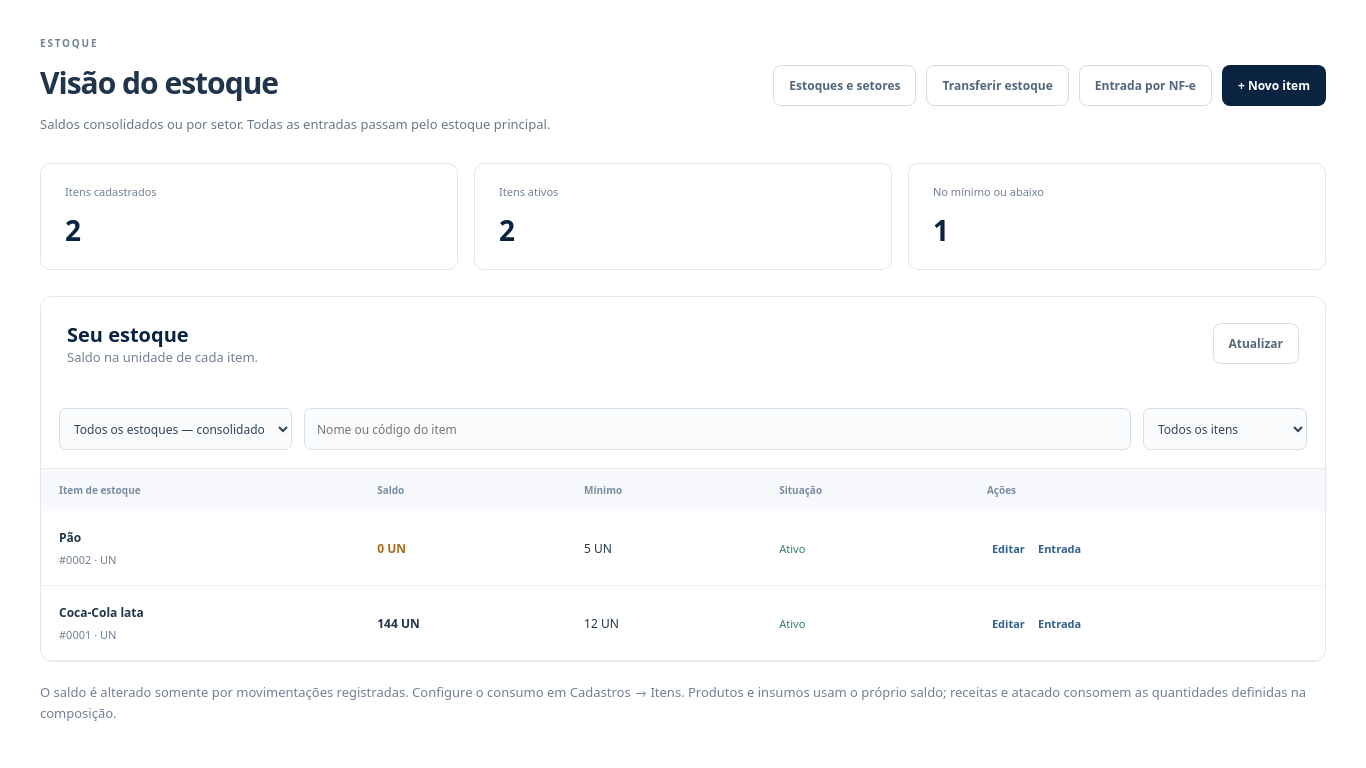
Scenario: shows the chosen sector balance and offers transfers from the stock overview
Check: the text "Coca-Cola lata" is shown, box [59,604,144,621]
Select "Cozinha" in the dropdown named "Estoque / setor": (176, 429) [59,408,292,450]
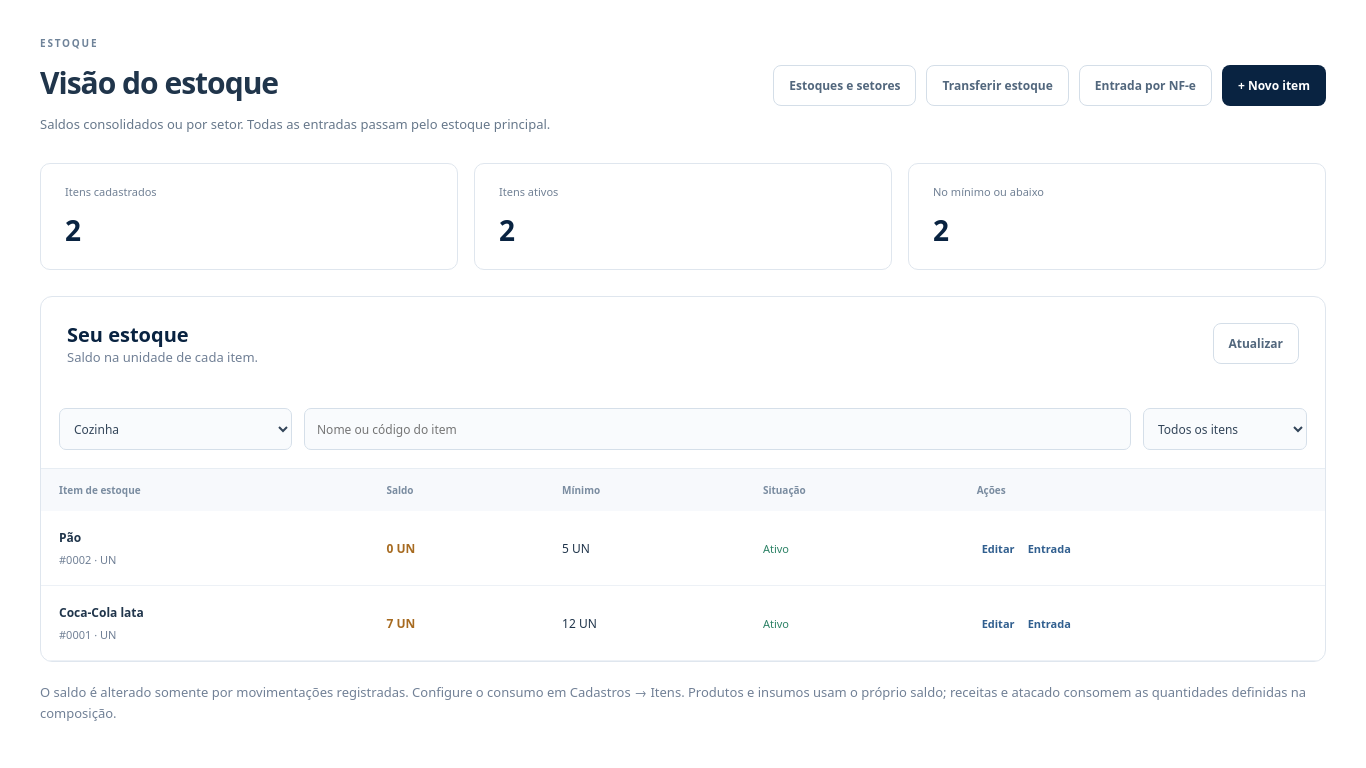
Check: the button "Transferir estoque" is enabled, box [926,65,1069,106]
Check: the text "7 UN" is shown, box [386,615,415,632]
Check: the text "144 UN" is gone
